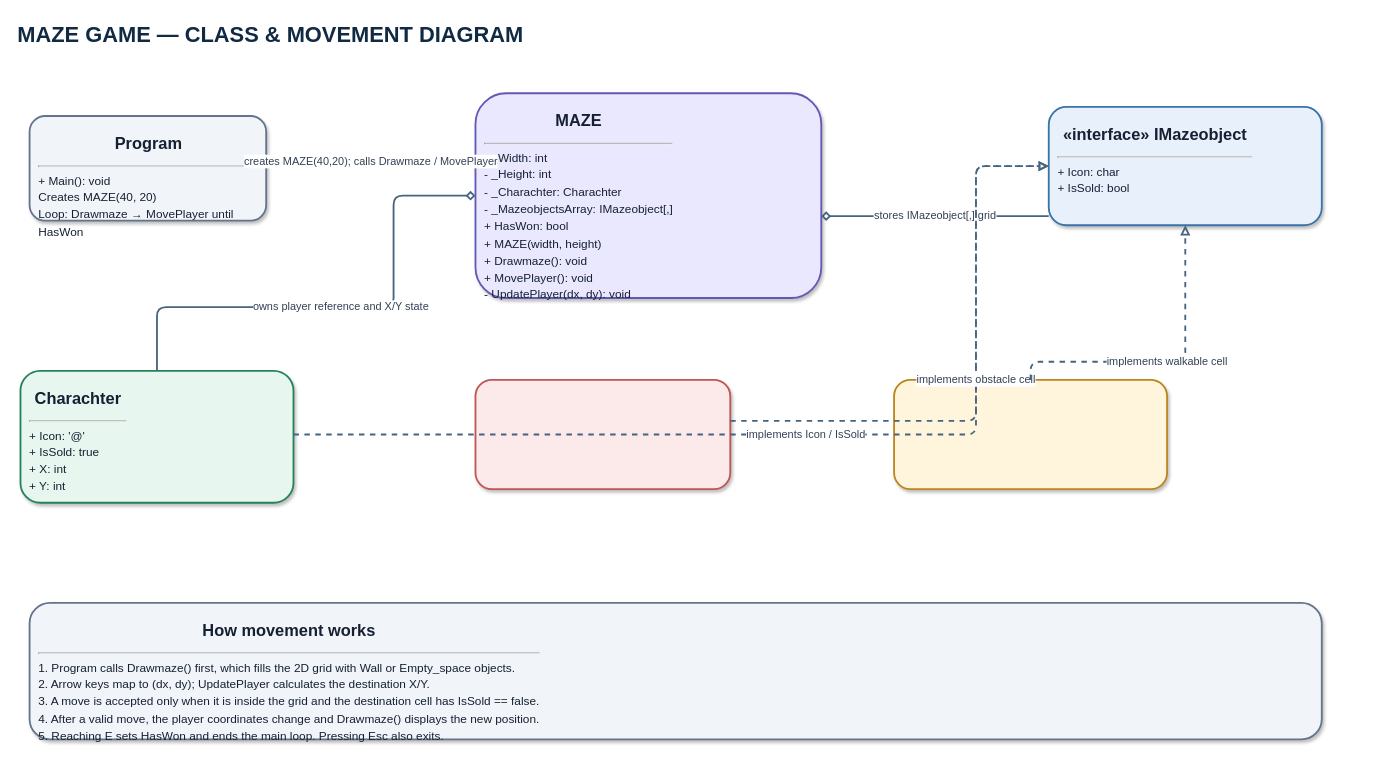
Image size: 1378x762. Some labels were removed from this diagram. The centre of each missing label's shape, as x and y in pixels:
"Empty_space + Icon: ' ' + IsSold: false" belongs at (x=1031, y=435).
"Wall + Icon: '#' + IsSold: true" belongs at (x=603, y=435).
